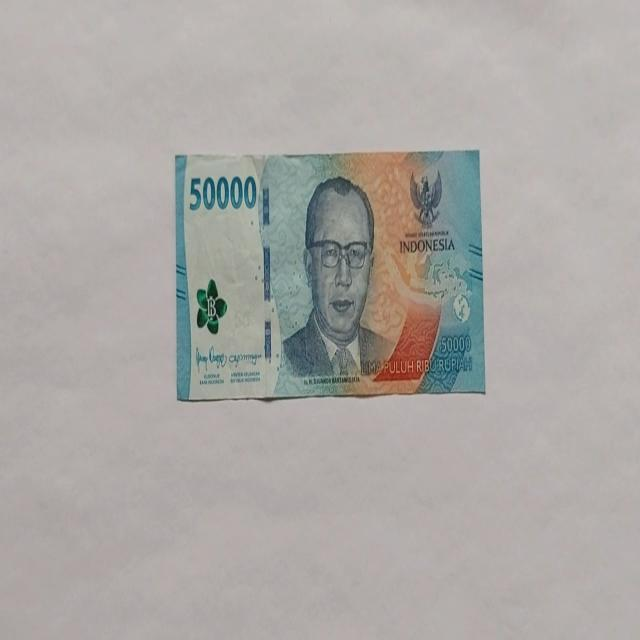lima puluh ribu rupiah: (174, 148, 485, 402), (280, 174, 394, 385)
